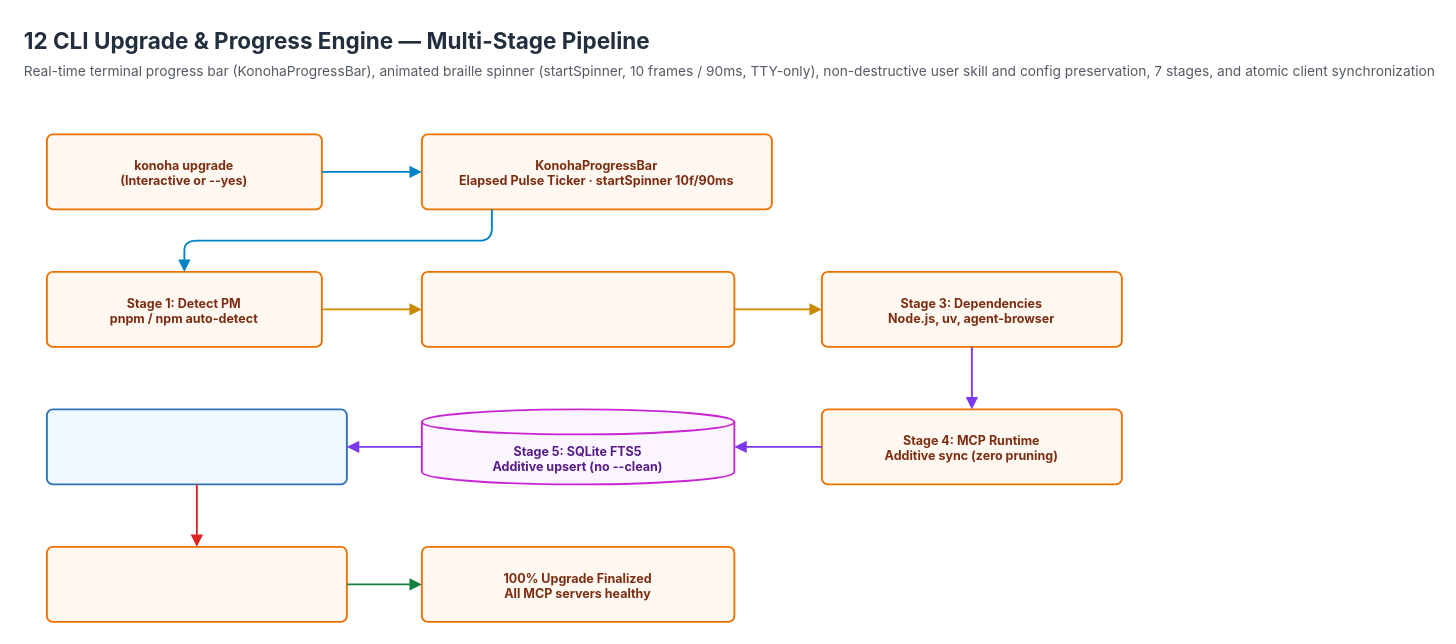
Some shapes in this 1456 by 644 pixel diagram are drawn without their labels. Here are the shapes that lost their labels. From the top down, the box of each, then its label:
(420, 270, 735, 347): Stage 2: GitHub Release Spawn add/install & pulse timer
(45, 408, 347, 485): Stage 6: 7 MCP Clients Managed injection & union-merge
(45, 545, 347, 622): Stage 7: Bridge Extension Fast-path VSIX & tools
